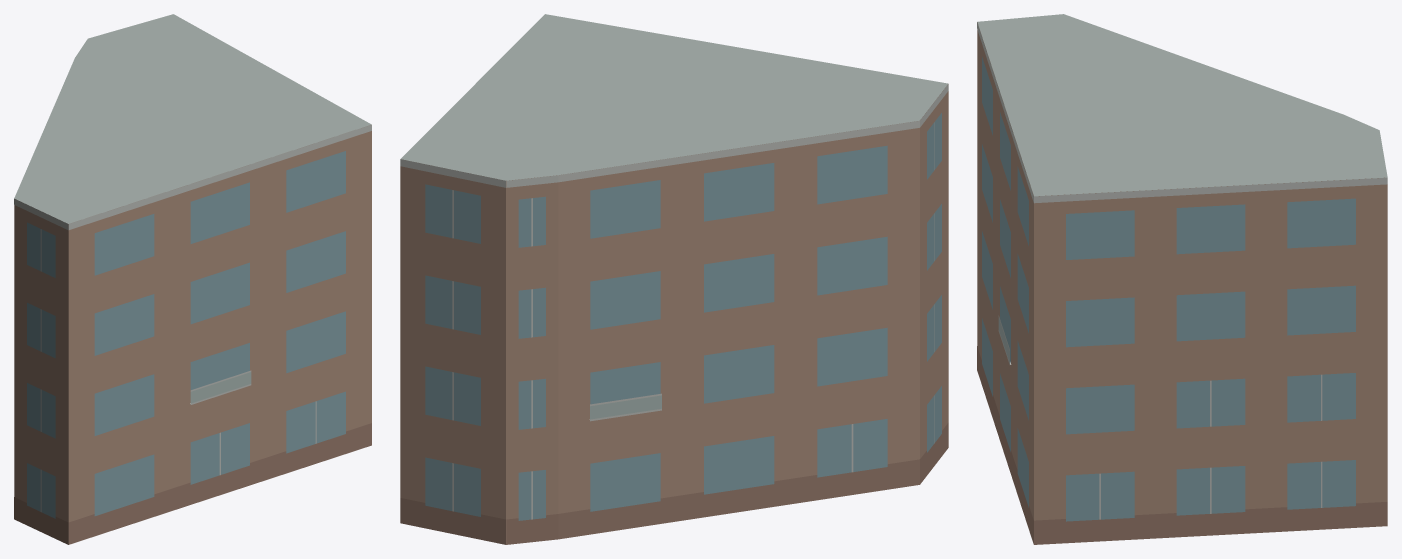
Rendered from survey-upis-33009762.glb.
3 renders of one model, left to right at view 1: azimuth 30°, elevation 25°; view 2: azimuth 150°, elevation 25°; view 3: azimuth 270°, elevation 25°, orthographic. The views are drawn at different scales.
Parts seen in each view (by area): view 1: survey-upis-33009762.tmp; view 2: survey-upis-33009762.tmp; view 3: survey-upis-33009762.tmp.
Boxes of the visible parts, x1=… form: survey-upis-33009762.tmp: x1=14, y1=14, x2=371, y2=544; survey-upis-33009762.tmp: x1=400, y1=14, x2=948, y2=544; survey-upis-33009762.tmp: x1=977, y1=14, x2=1387, y2=544.
Bounding box in the file's own units: 13.92 × 12.4 × 13.25.
